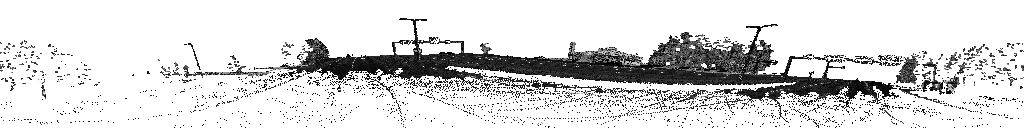gantry_sign_pole: (783, 54, 905, 74), (391, 37, 463, 54), (822, 63, 844, 80)
light_pole: (737, 25, 777, 84), (399, 19, 426, 61), (185, 43, 197, 64), (928, 65, 937, 88)
traffic_pole: (37, 76, 44, 92), (808, 72, 813, 82)
